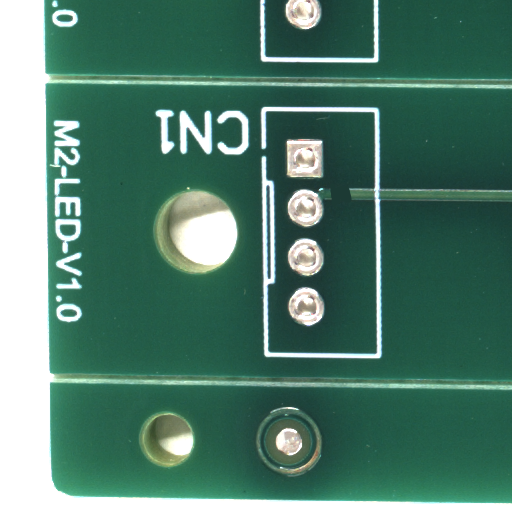Open_circuit: (341, 194, 364, 211)
